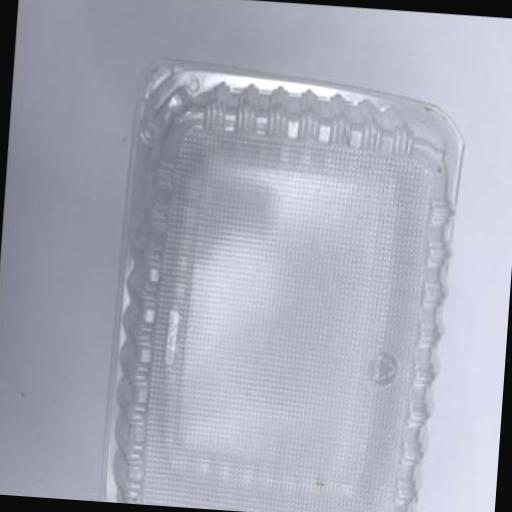plastic: (98, 59, 471, 512)
